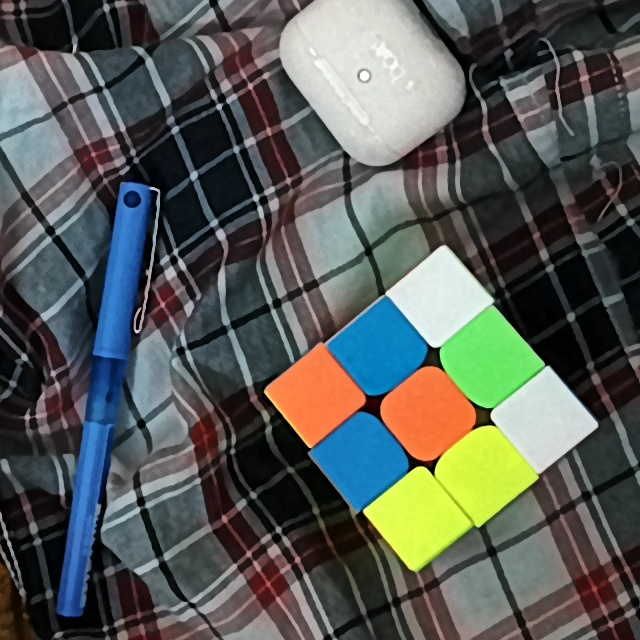tile: (453, 449, 508, 505), (409, 269, 466, 323), (462, 335, 518, 385), (353, 325, 406, 375), (290, 371, 339, 424), (396, 490, 442, 545), (338, 434, 387, 485), (514, 398, 566, 446), (401, 389, 453, 434)
